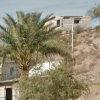Tree: (5, 7, 81, 95)
